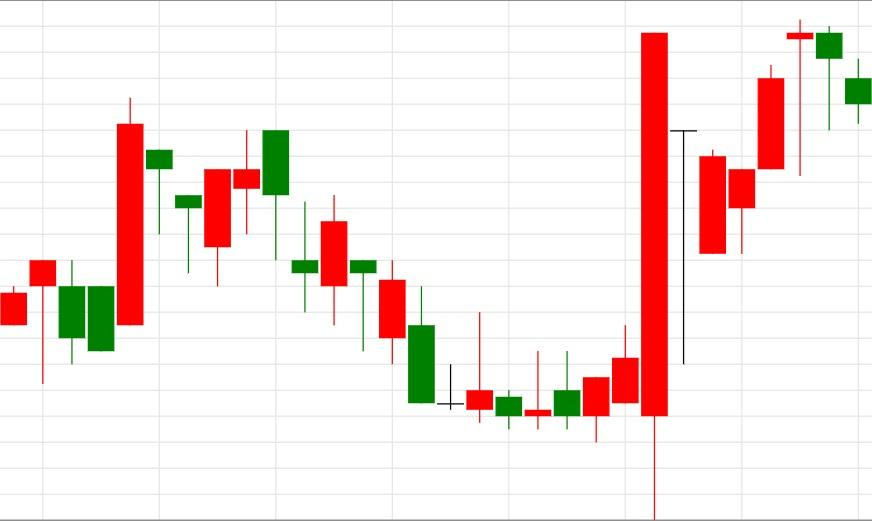bearish_engulfing_fall: (174, 130, 290, 286)
bullish_engulfing_rise: (232, 130, 349, 326)
